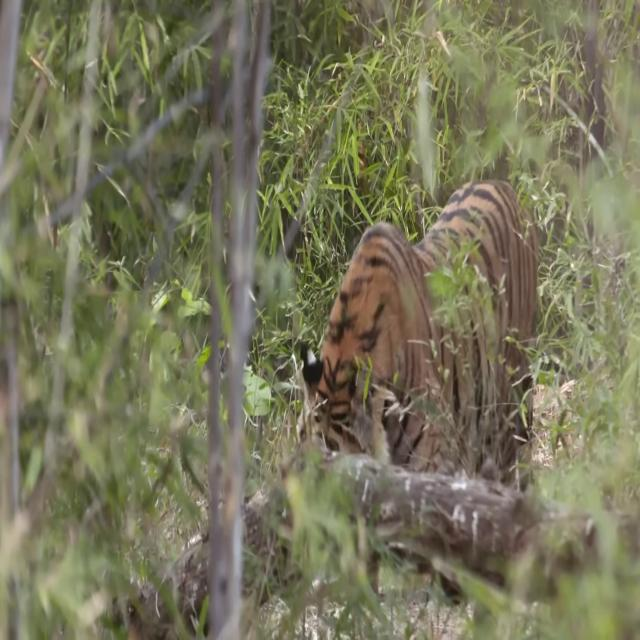tiger: (295, 179, 537, 474)
